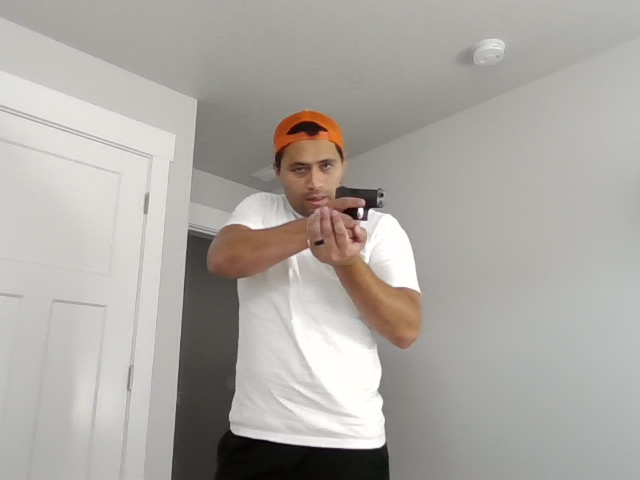handgun: (334, 183, 385, 228)
